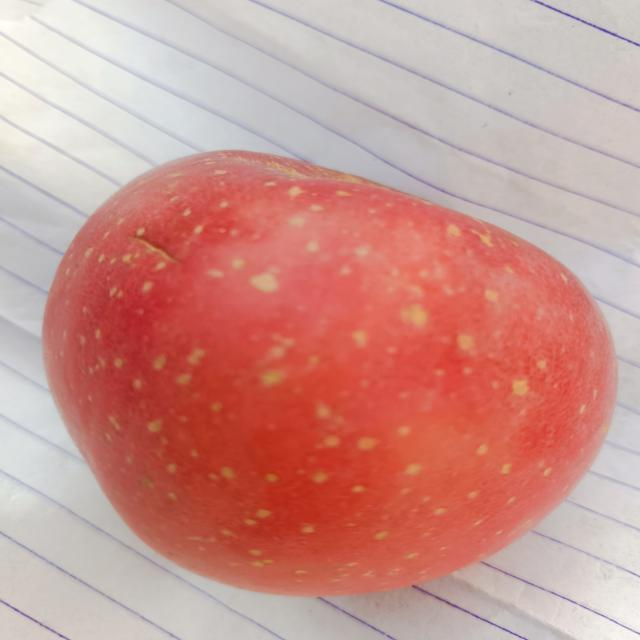Fresh Apple: (47, 147, 620, 598)
